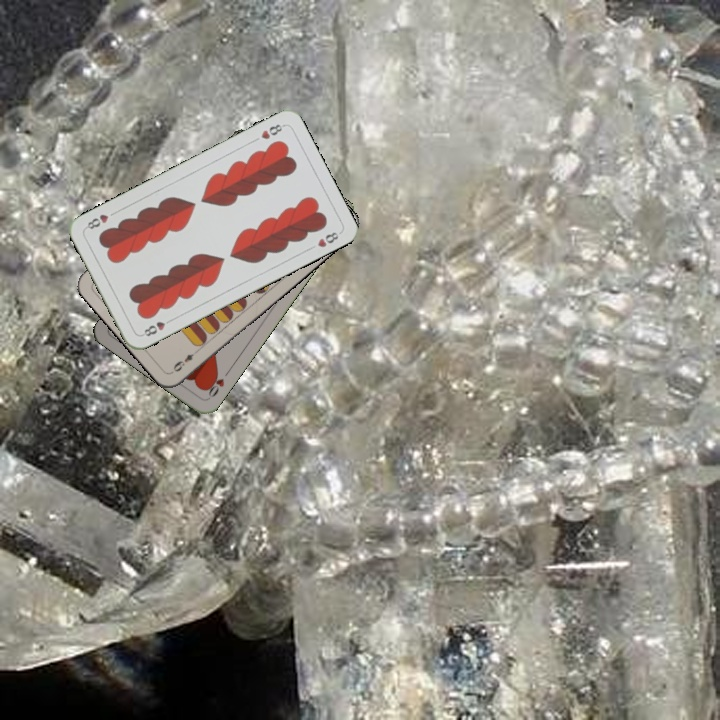E9: (168, 346, 202, 375)
H8: (138, 314, 175, 339), (257, 120, 287, 142)
HO: (201, 366, 232, 401)
